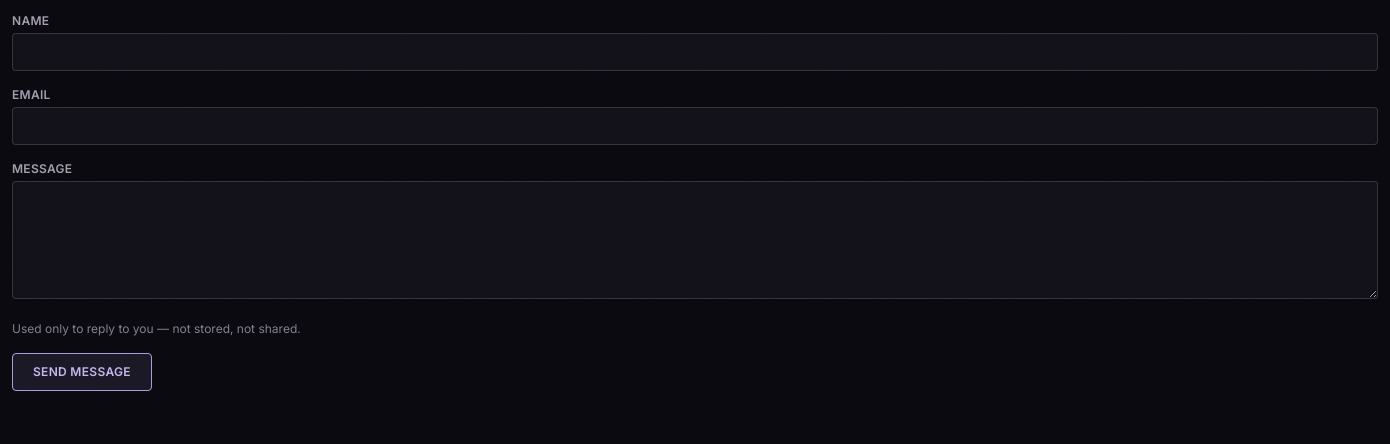
ContactForm › surfaces the server's own message on a 429 rate-limit response, not a generic failure
The image size is (1390, 444).
Type "Ada" into the field labelled "Name" at (695, 52), box [12, 33, 1378, 71]
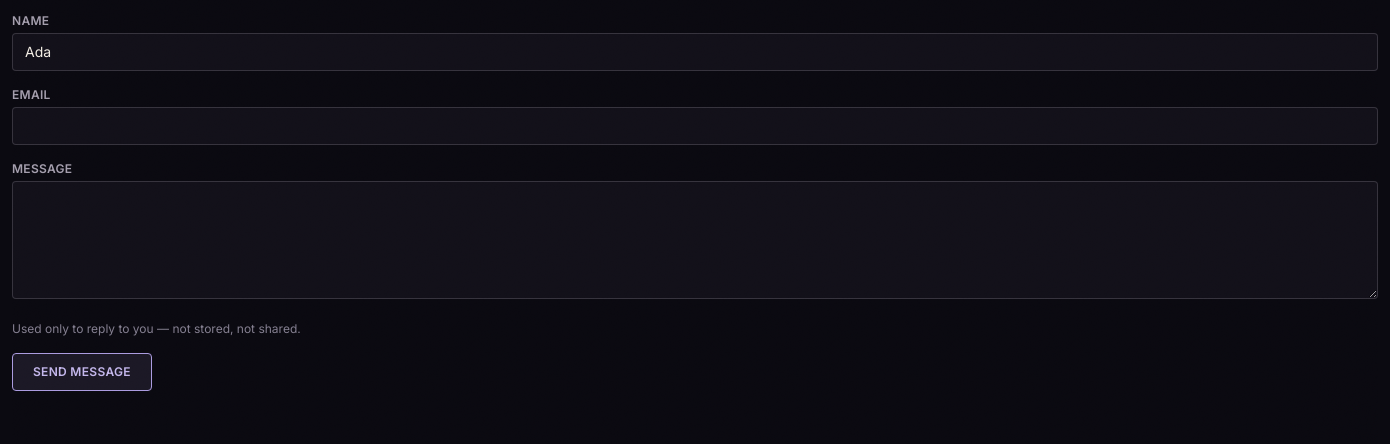
Type "ada@example.com" into the field labelled "Email" at (695, 126), box [12, 107, 1378, 145]
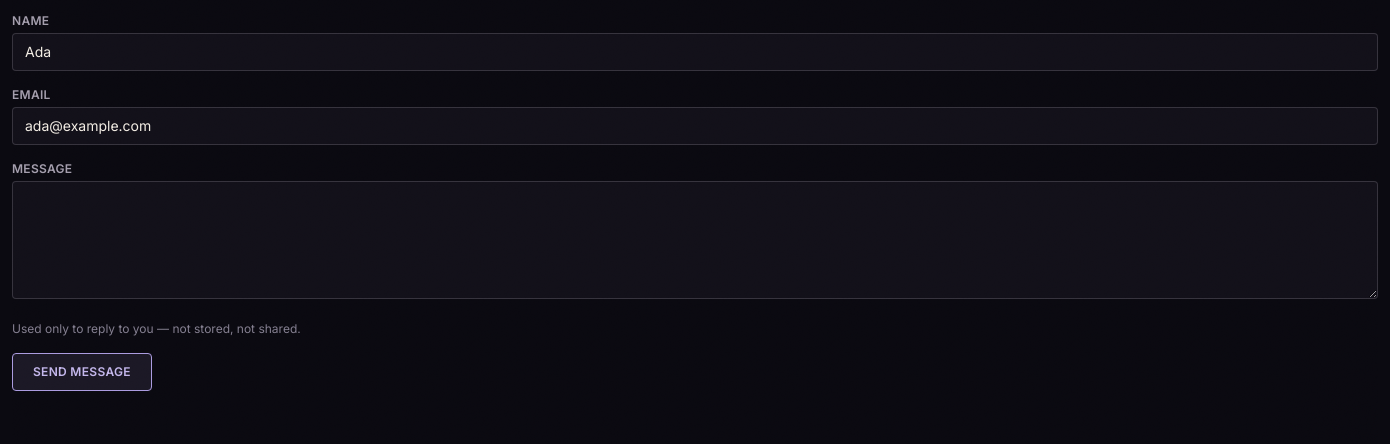
Type "Hello there" into the text box labelled "Message" at (695, 240), box [12, 181, 1378, 299]
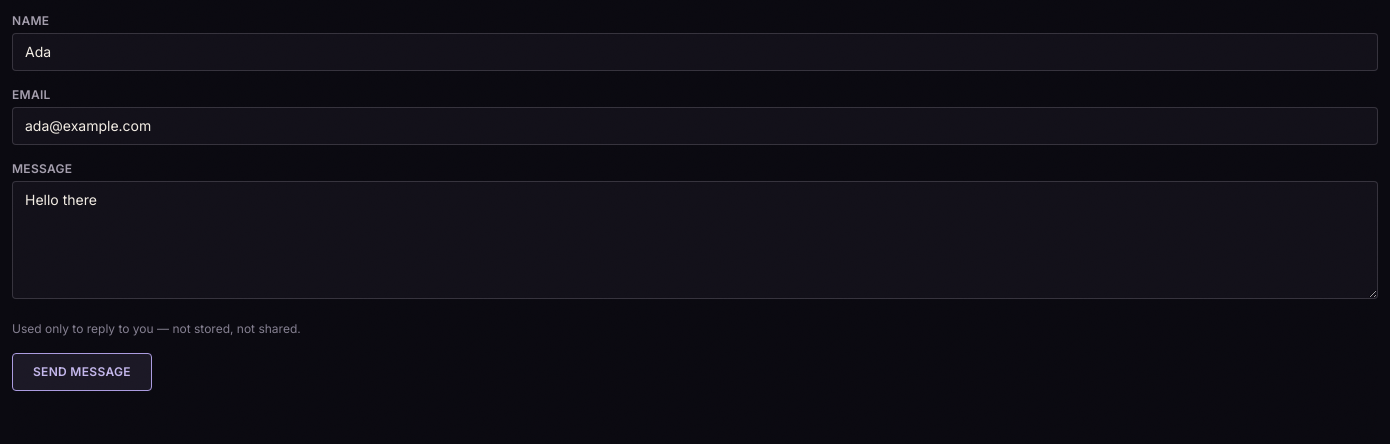
Click the button "Send message" at (82, 372), box [12, 353, 152, 391]
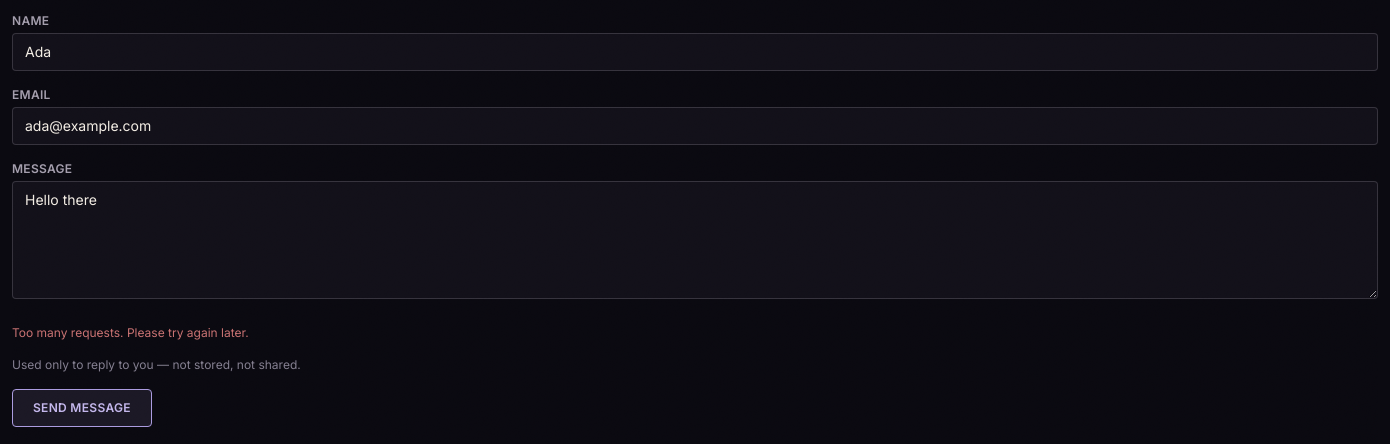
Check: the message reads "Too many requests. Please try again later.", box [12, 325, 249, 340]
